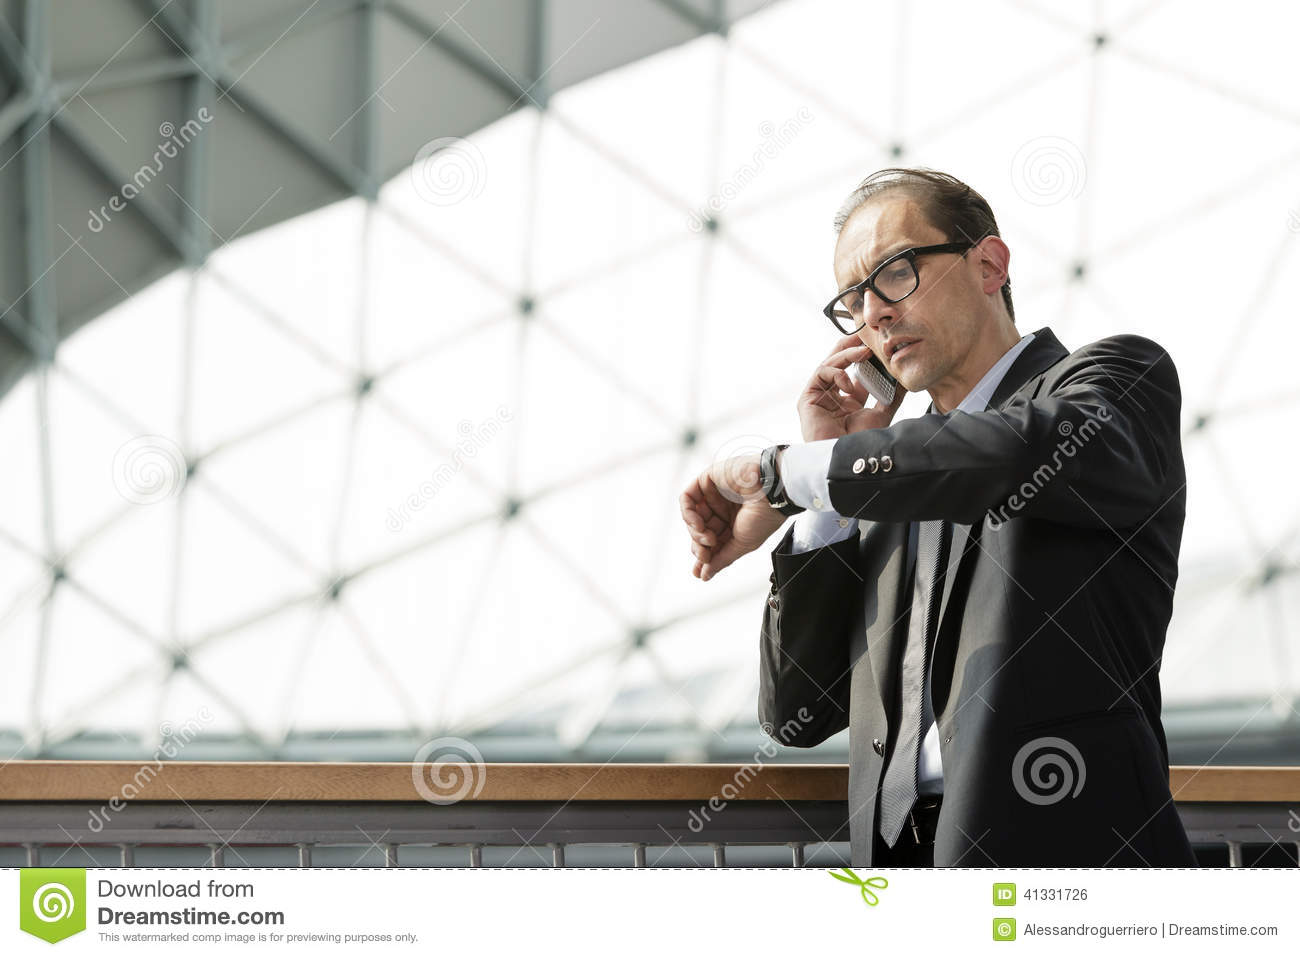talk: (797, 237, 939, 442)
